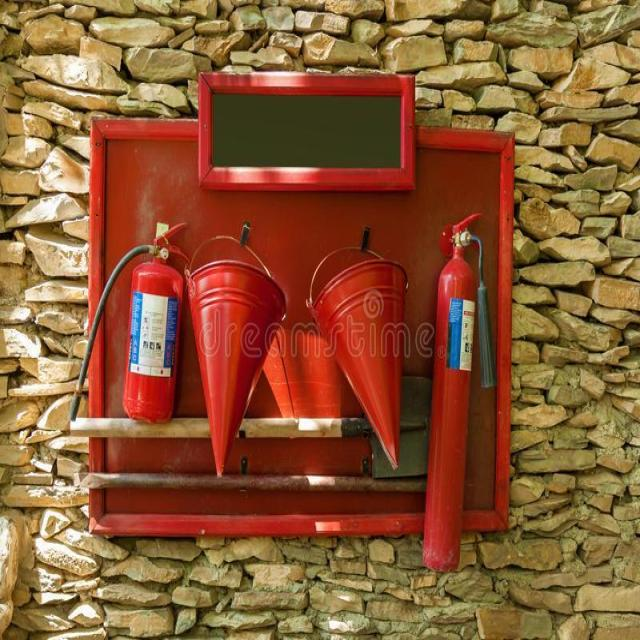fire_extinguisher: (418, 208, 500, 576), (67, 217, 192, 426)
